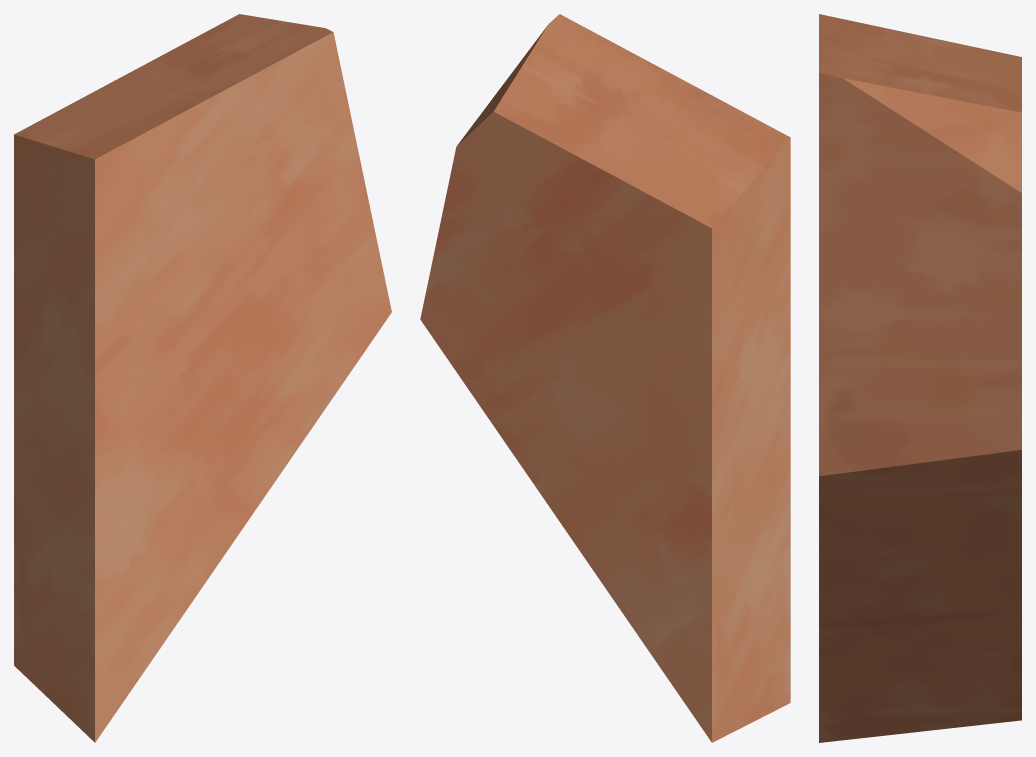
The model's file is wall2_window_s09.fbx.
3 views of the same model, side by side, from view 1: azimuth 30°, elevation 25°; view 2: azimuth 150°, elevation 25°; view 3: azimuth 270°, elevation 25° (orthographic). The views are drawn at different scales.
Visible parts, largest first — view 1: wall2_window_s09; view 2: wall2_window_s09; view 3: wall2_window_s09.
Part boxes in pixels (<box>): wall2_window_s09: <box>14,14,391,742</box>; wall2_window_s09: <box>420,14,790,742</box>; wall2_window_s09: <box>819,14,1021,742</box>.
Size of the model in its own units: 2.14 by 4.44 by 1.
